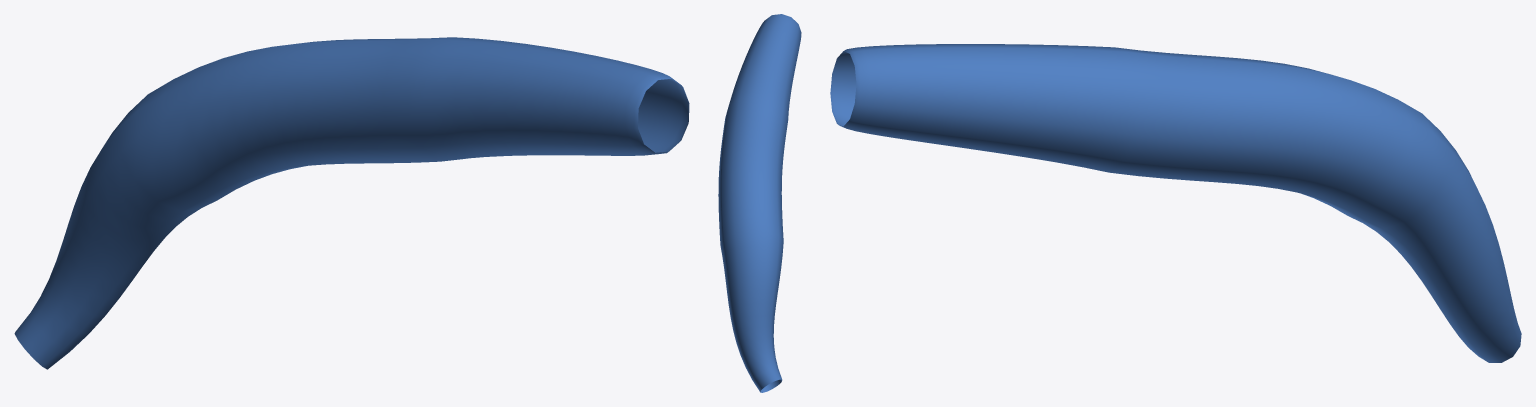
The picture shows the model from 3 angles, left to right: view 1: azimuth 30°, elevation 25°; view 2: azimuth 150°, elevation 25°; view 3: azimuth 270°, elevation 25°; orthographic projection. The views are drawn at different scales.
Visible parts, largest first — view 1: 左侧乙状窦; view 2: 左侧乙状窦; view 3: 左侧乙状窦.
Boxes of the visible parts, x1,y1,x2,y2 form: 左侧乙状窦: [14, 37, 689, 369]; 左侧乙状窦: [718, 14, 801, 392]; 左侧乙状窦: [830, 44, 1521, 362].
Size of the model in its own units: 0.0237 by 0.029 by 0.0402.
